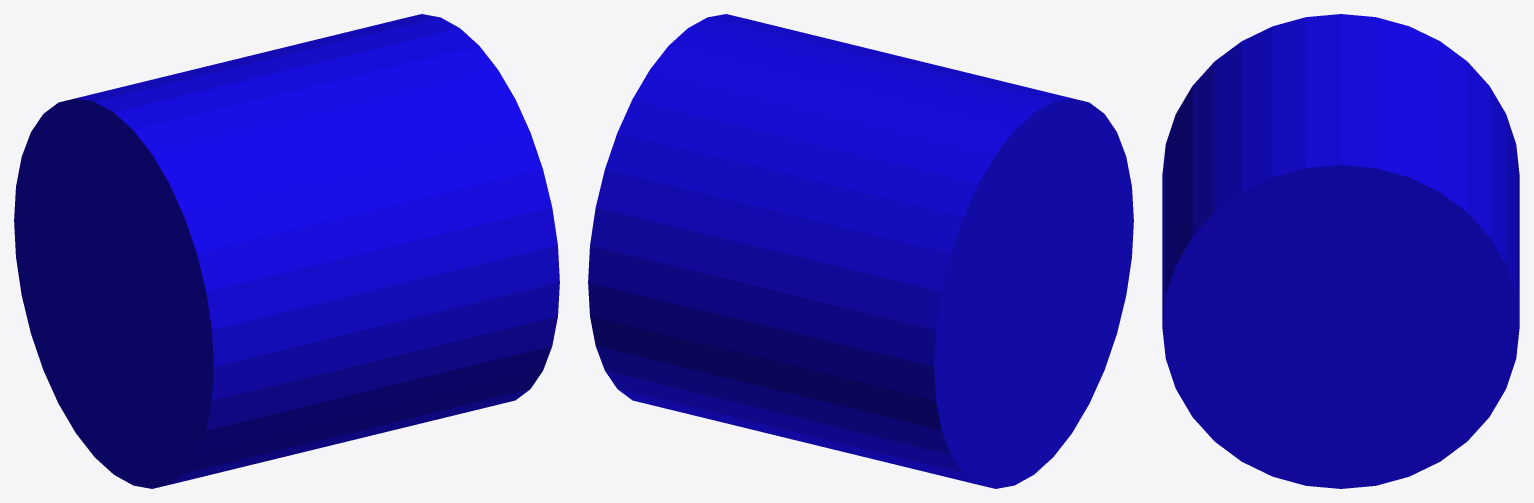
3 views of the same model, side by side, from view 1: azimuth 30°, elevation 25°; view 2: azimuth 150°, elevation 25°; view 3: azimuth 270°, elevation 25° (orthographic). The views are drawn at different scales.
Visible parts, largest first — view 1: 円柱; view 2: 円柱; view 3: 円柱.
Boxes of the visible parts, <box> form: 円柱: <box>14,14,559,488</box>; 円柱: <box>588,14,1133,488</box>; 円柱: <box>1162,14,1519,488</box>.
Size of the model in its own units: 2 by 2 by 2.
